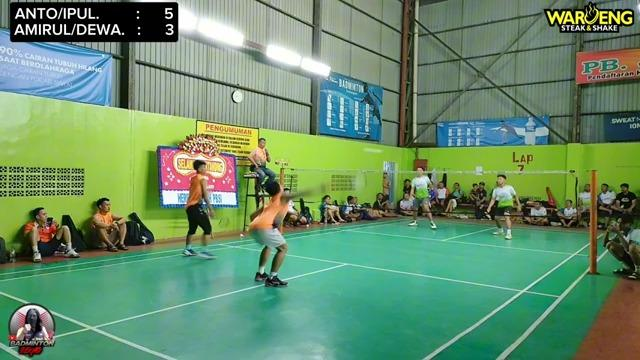Shuttlecock: (360, 148, 388, 154)
